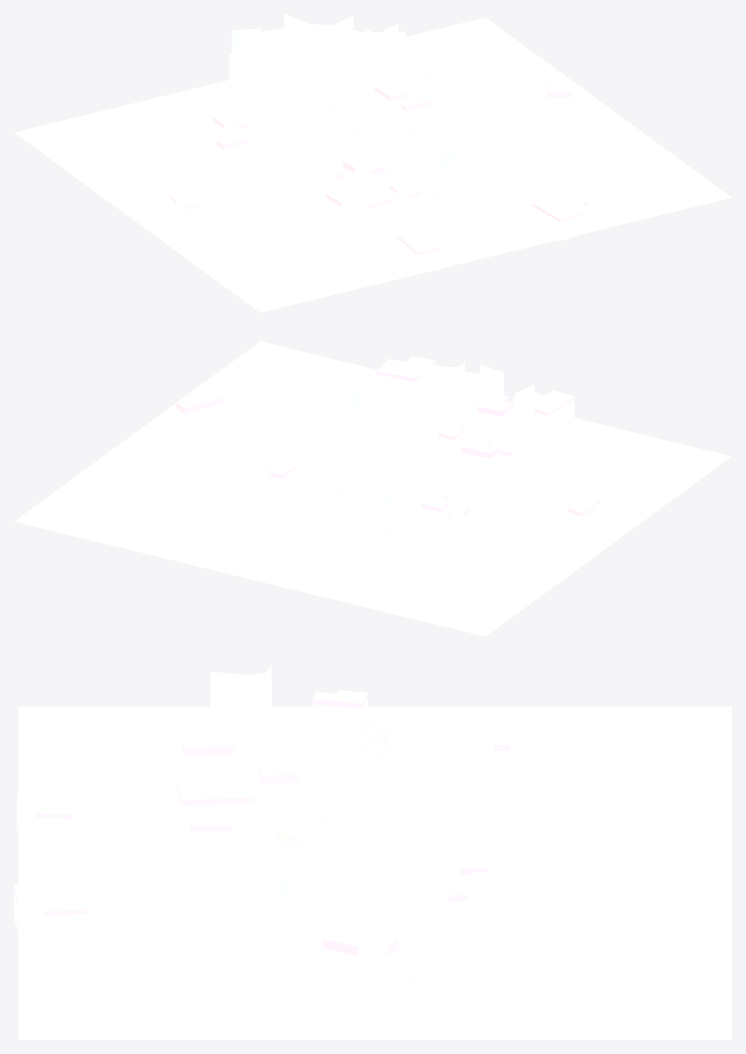
The model's file is stage.glb.
3 renders of one model, top to bottom at view 1: azimuth 30°, elevation 25°; view 2: azimuth 150°, elevation 25°; view 3: azimuth 270°, elevation 25°, orthographic. The views are drawn at different scales.
Parts seen in each view (by area): view 1: KORE_export_5_Barricade_1_0_0, KORE_export_7_Plant01A_1_0_0; view 2: KORE_export_5_Barricade_1_0_0, KORE_export_7_Plant01A_1_0_0; view 3: KORE_export_5_Barricade_1_0_0, KORE_export_7_Plant01A_1_0_0.
Part boxes in pixels (x1,y1,x2,y2): KORE_export_5_Barricade_1_0_0: (14,14,731,312); KORE_export_7_Plant01A_1_0_0: (327,133,454,192); KORE_export_5_Barricade_1_0_0: (14,341,731,636); KORE_export_7_Plant01A_1_0_0: (230,435,433,493); KORE_export_5_Barricade_1_0_0: (14,665,731,1039); KORE_export_7_Plant01A_1_0_0: (251,823,453,901).
Bounding box in the file's own units: 18 × 3.45 × 16.38.
Materials: 2 (2 with a texture image).
